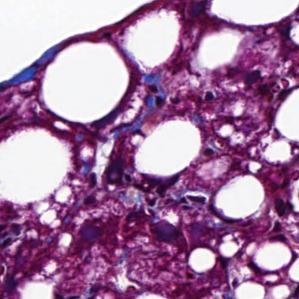inflammation: (176, 188, 215, 208)
